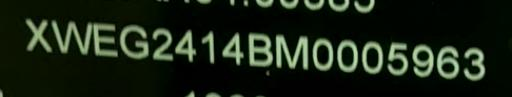letter: (51, 19, 93, 56), (274, 34, 310, 71), (119, 25, 149, 58), (92, 22, 118, 57), (247, 33, 273, 68), (25, 18, 51, 51), (172, 28, 198, 61), (220, 31, 244, 66), (410, 42, 434, 77), (436, 44, 460, 79), (462, 45, 486, 80), (149, 27, 173, 60), (310, 38, 334, 71), (360, 41, 384, 74), (386, 41, 408, 76), (336, 39, 358, 72), (200, 30, 216, 63)
